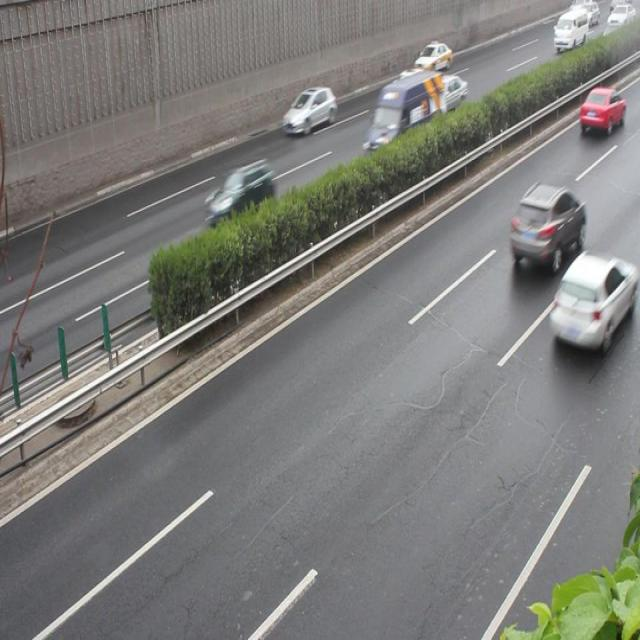car: (549, 249, 630, 352), (508, 182, 584, 266), (205, 158, 274, 222), (282, 84, 336, 135), (579, 85, 624, 139)
truck: (362, 70, 441, 160)
